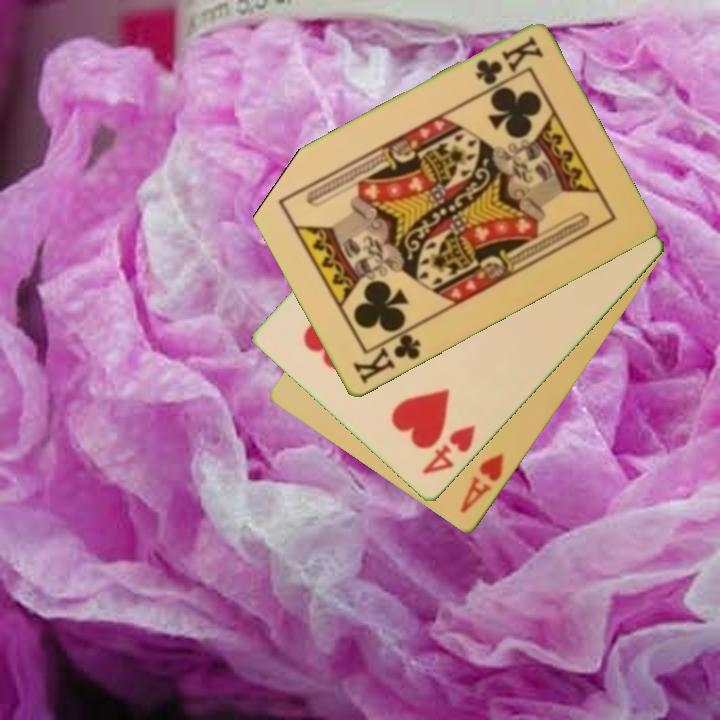4h: (418, 421, 479, 478)
Ah: (456, 450, 507, 517)
Kc: (349, 324, 424, 388), (471, 33, 547, 89)
